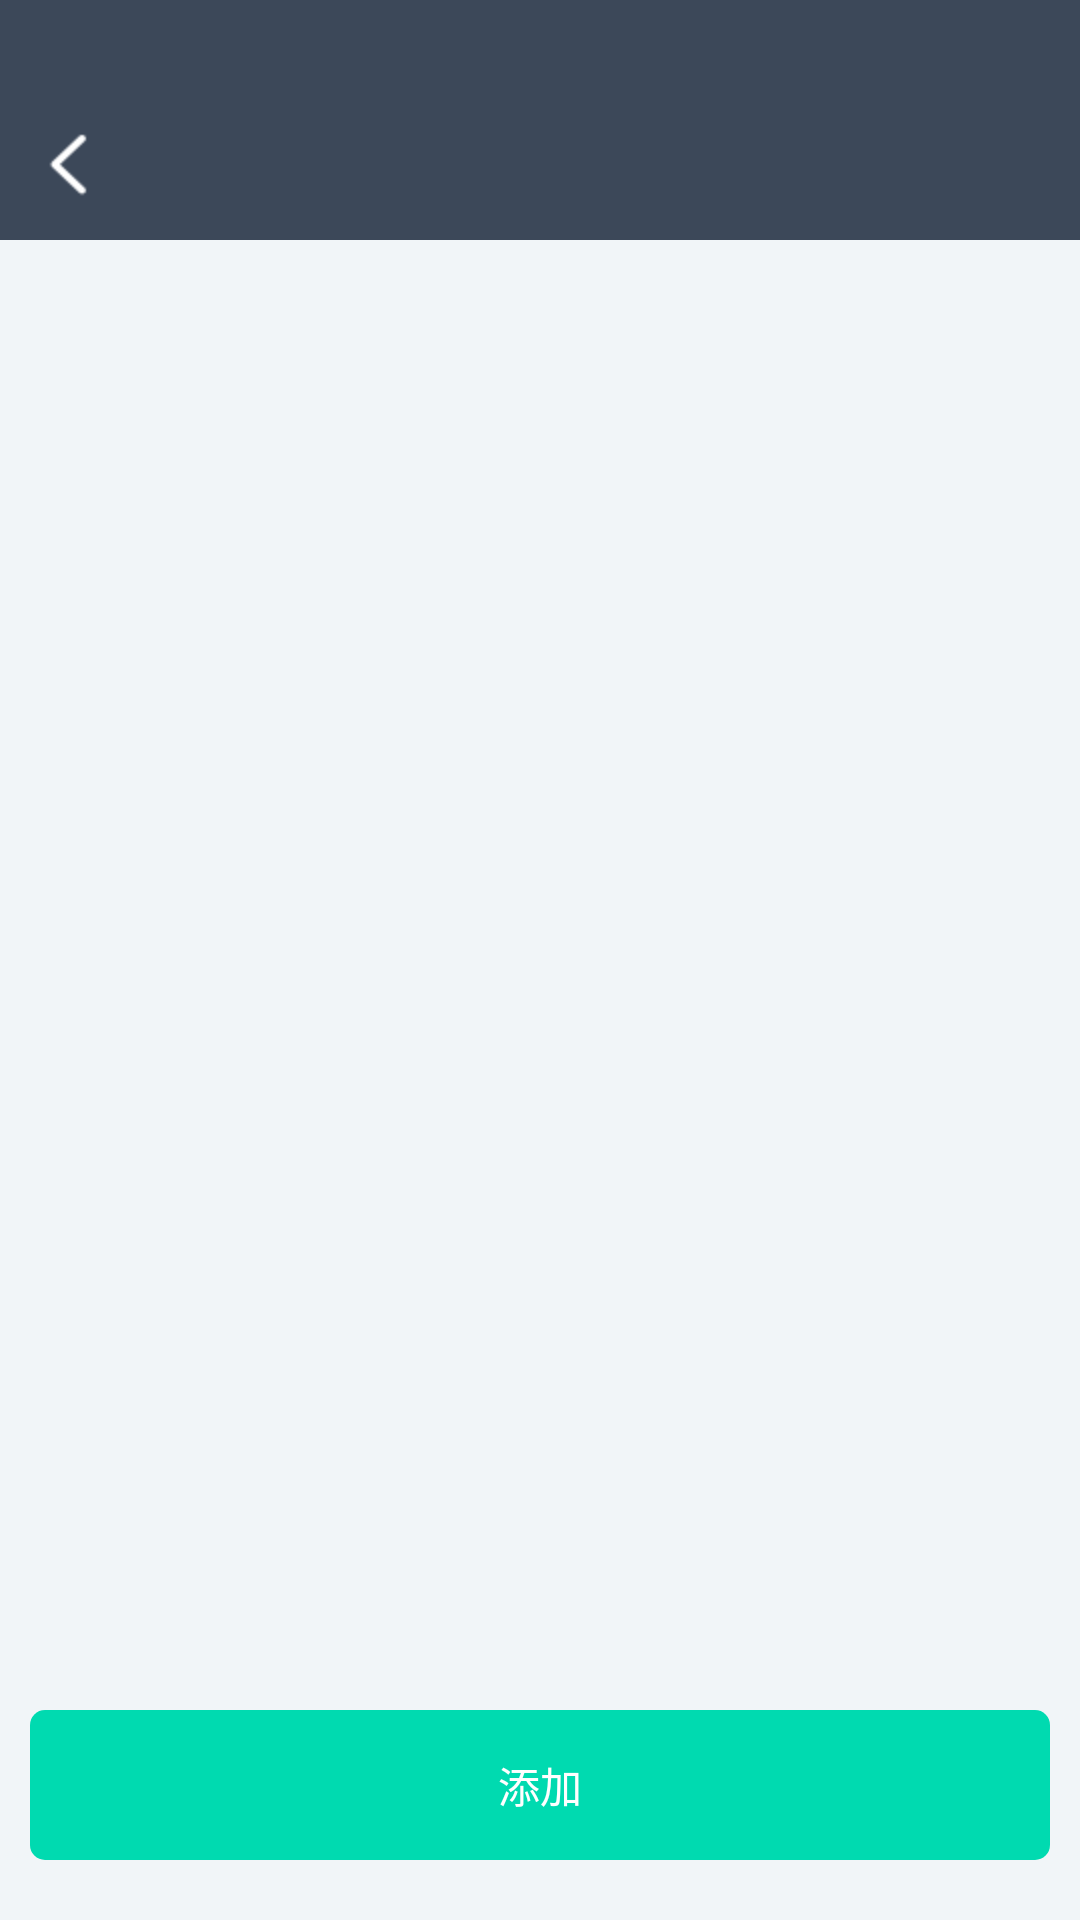

Point at icon controls on the screen. Image size 1080 x 1920, points as [x,y].
back: [68,164]
